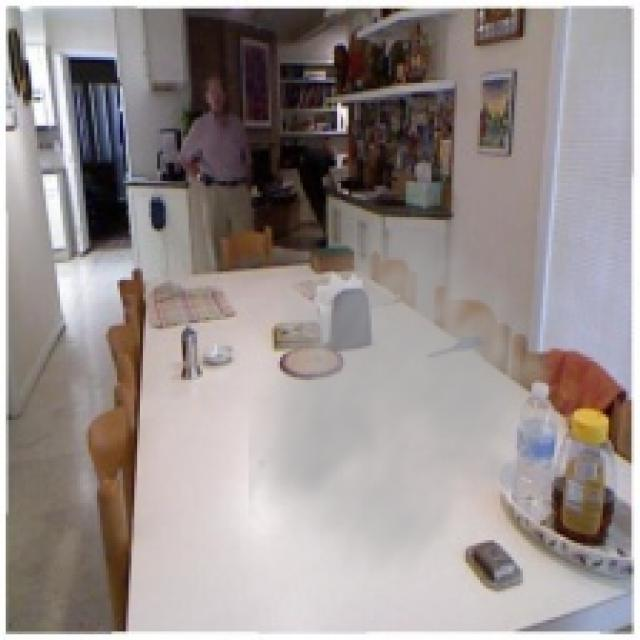smoke: (248, 188, 592, 592)
